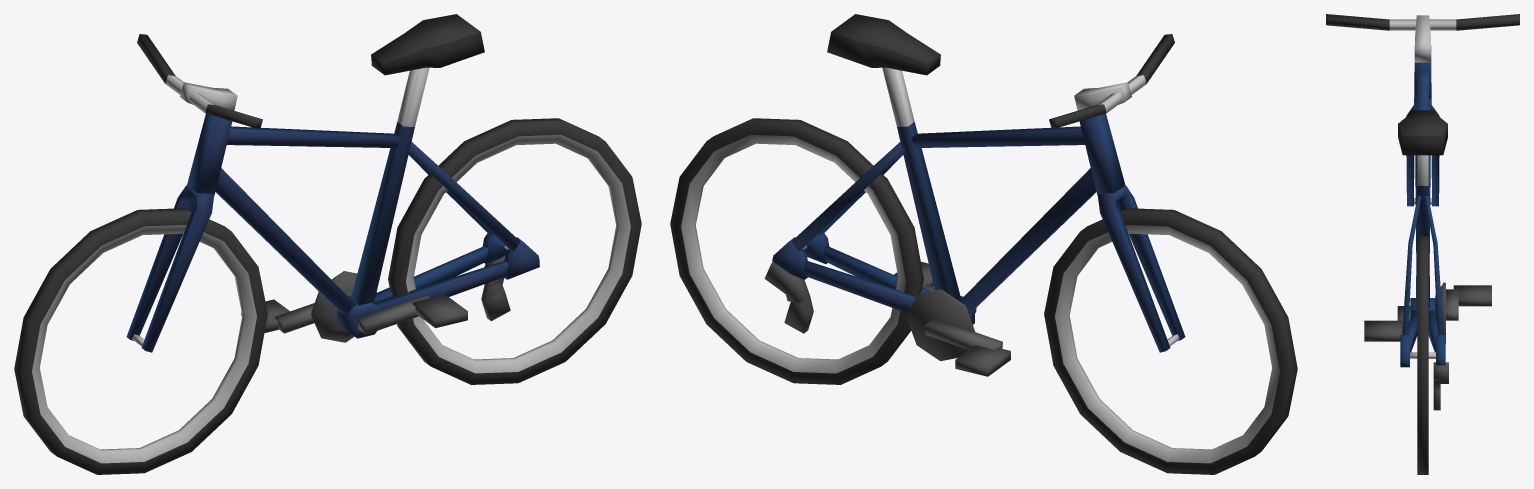
File: BiciBlu.fbx
3 views of the same model, side by side, from view 1: azimuth 30°, elevation 25°; view 2: azimuth 150°, elevation 25°; view 3: azimuth 270°, elevation 25° (orthographic). The views are drawn at different scales.
Visible parts, largest first — view 1: bici_normale; view 2: bici_normale; view 3: bici_normale.
Boxes of the visible parts, box(x1,y1,x2,y2) form: bici_normale: box(14, 14, 641, 474); bici_normale: box(670, 14, 1297, 474); bici_normale: box(1326, 14, 1519, 474).
Size of the model in its own units: 516 by 303 by 167.
